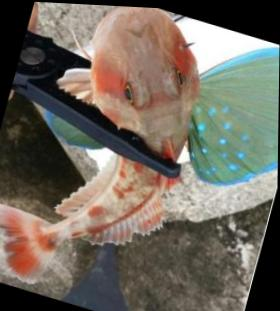fish: (0, 5, 280, 283)
